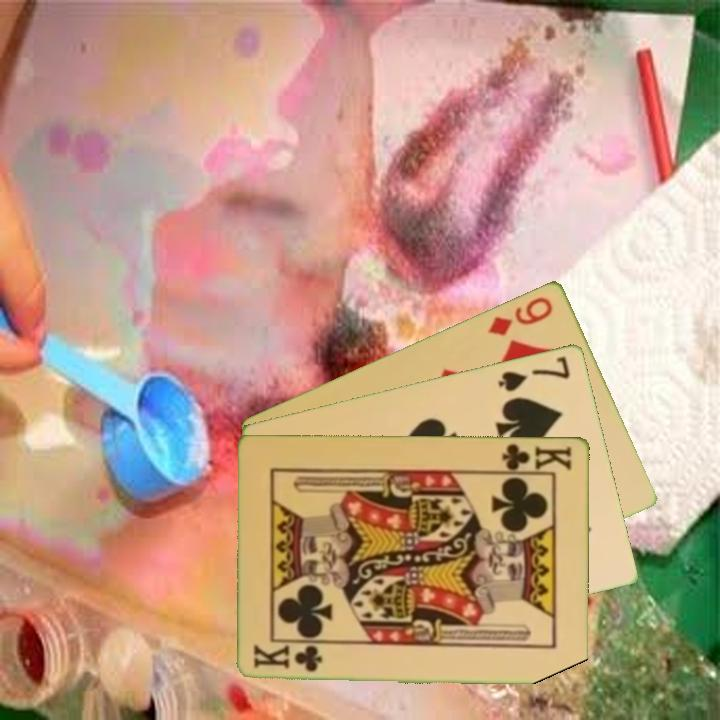7s: (495, 352, 573, 394)
9d: (485, 292, 556, 338)
Kc: (495, 440, 575, 474), (251, 643, 326, 674)
